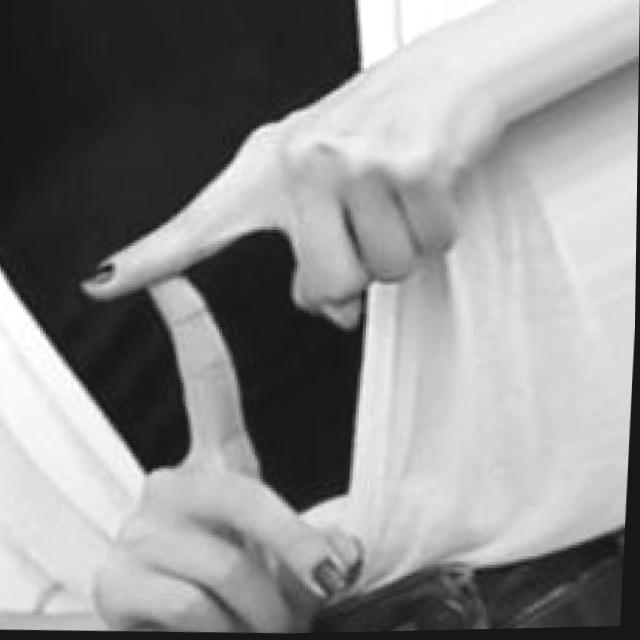T: (58, 4, 474, 639)
